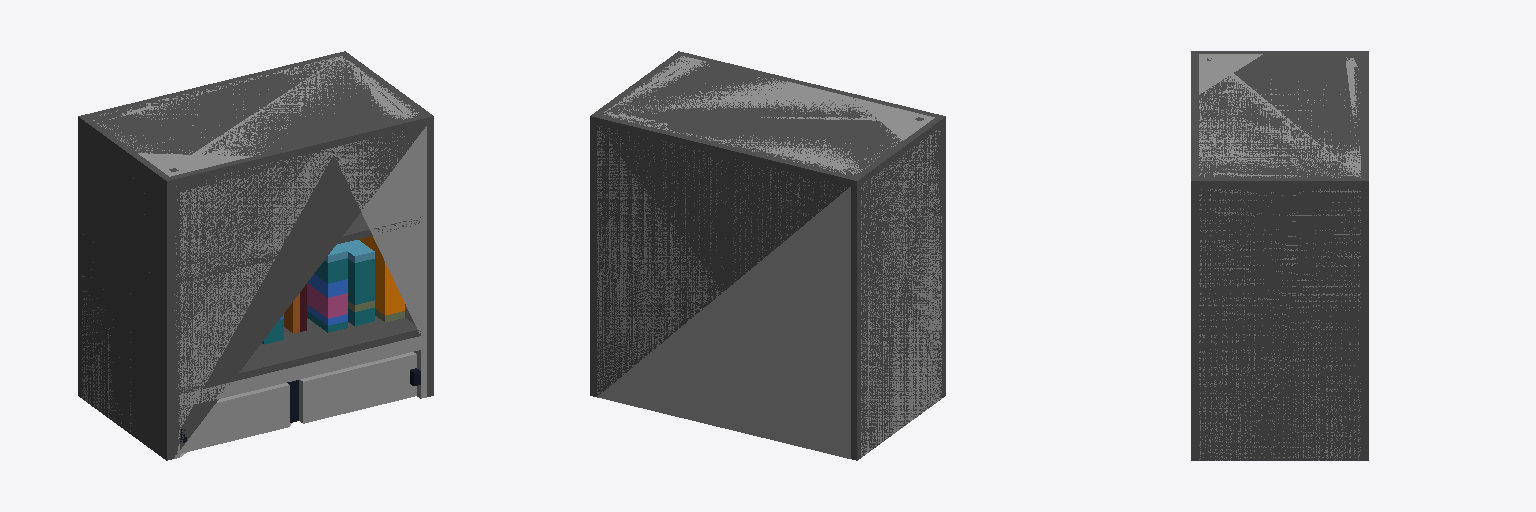
File: MetalBookBench.obj
3 renders of one model, left to right at view 1: azimuth 30°, elevation 25°; view 2: azimuth 150°, elevation 25°; view 3: azimuth 270°, elevation 25°, orthographic.
Visible parts, largest first — view 1: MetalBookBench.001_MetalBookBench.011; view 2: MetalBookBench.001_MetalBookBench.011; view 3: MetalBookBench.001_MetalBookBench.011.
Boxes of the visible parts, x1=… form: MetalBookBench.001_MetalBookBench.011: x1=78, y1=51, x2=433, y2=460; MetalBookBench.001_MetalBookBench.011: x1=590, y1=51, x2=945, y2=460; MetalBookBench.001_MetalBookBench.011: x1=1191, y1=51, x2=1368, y2=460.
Size of the model in its own units: 2.5 by 2.5 by 1.44.